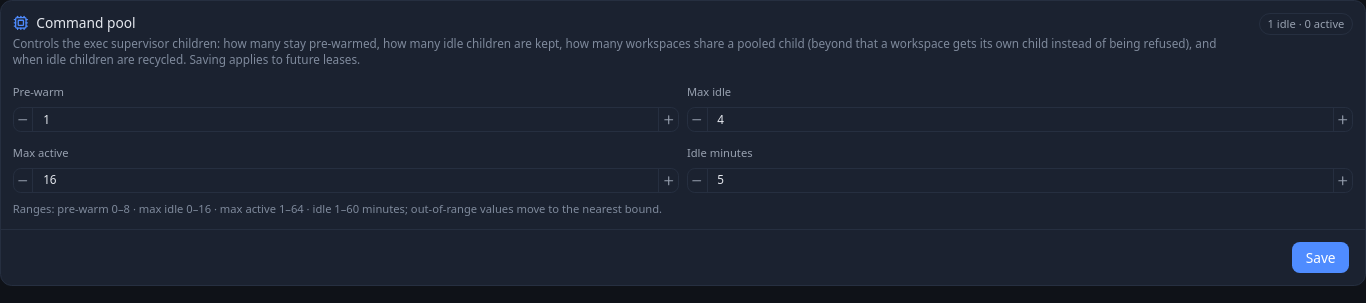
Test case: ExecPoolCard › refreshes the live counts without clobbering the draft
Expected: the text "1 idle · 0 active" is shown, x1=1259 y1=13 x2=1353 y2=36
Replace the text in the number field named "Pre-warm" with "7" at (346, 120), box x1=33 y1=108 x2=658 y2=131
Wait 5000 ms
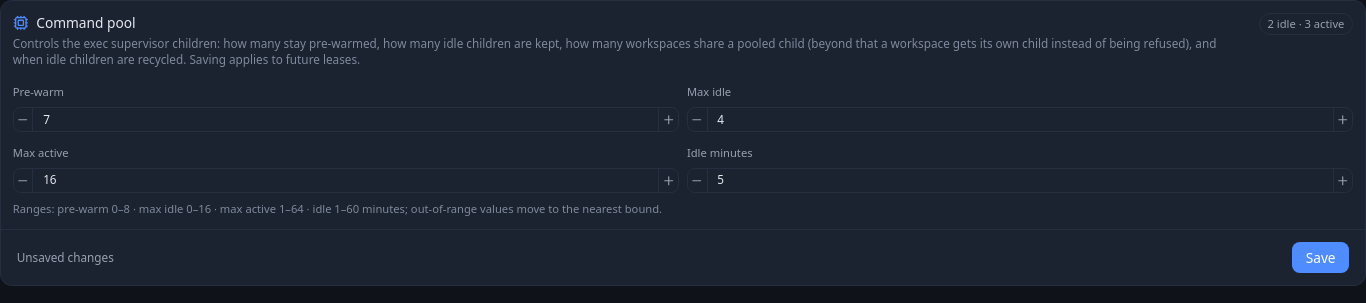
Expected: the text "2 idle · 3 active" is shown, x1=1259 y1=13 x2=1353 y2=36
Expected: the text "Unsaved changes" is shown, x1=17 y1=250 x2=114 y2=266
